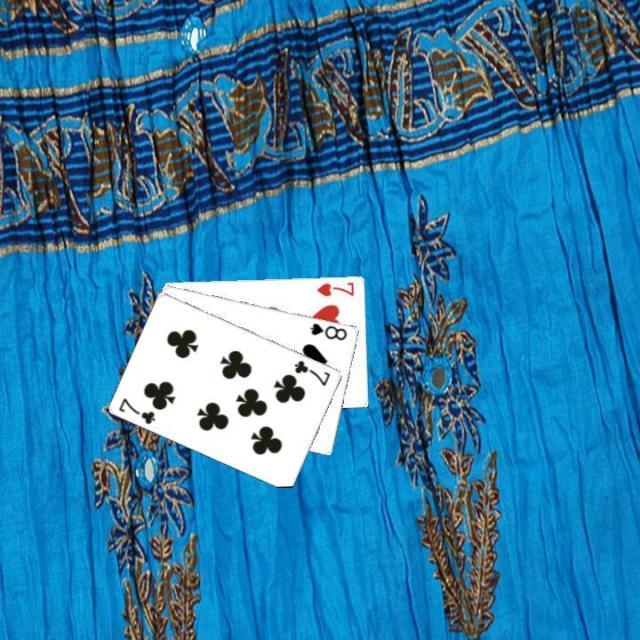7C: (115, 394, 157, 426), (290, 357, 332, 388)
7H: (313, 278, 356, 298)
8S: (306, 319, 349, 342)
